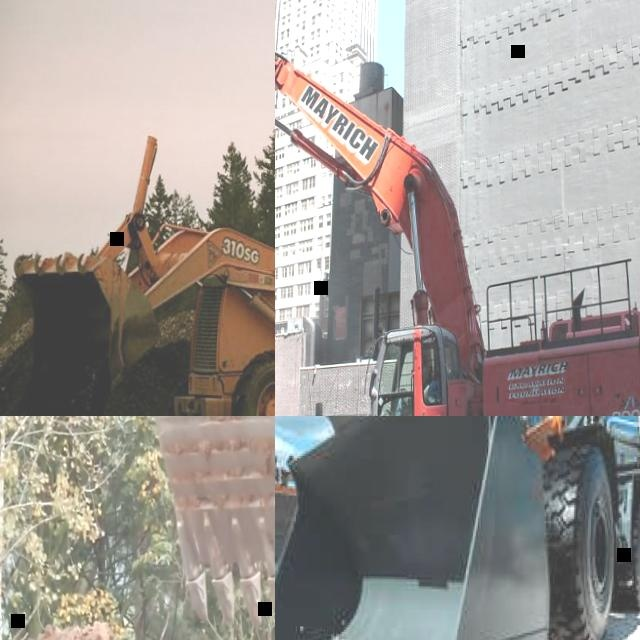machinery: (275, 40, 640, 416), (6, 67, 275, 416), (275, 416, 640, 640), (143, 416, 275, 630), (0, 594, 275, 640)
